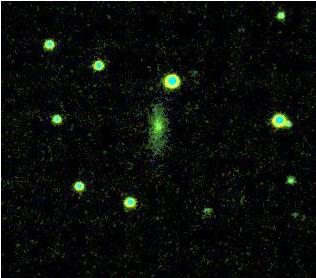star: (142, 121, 172, 151)
